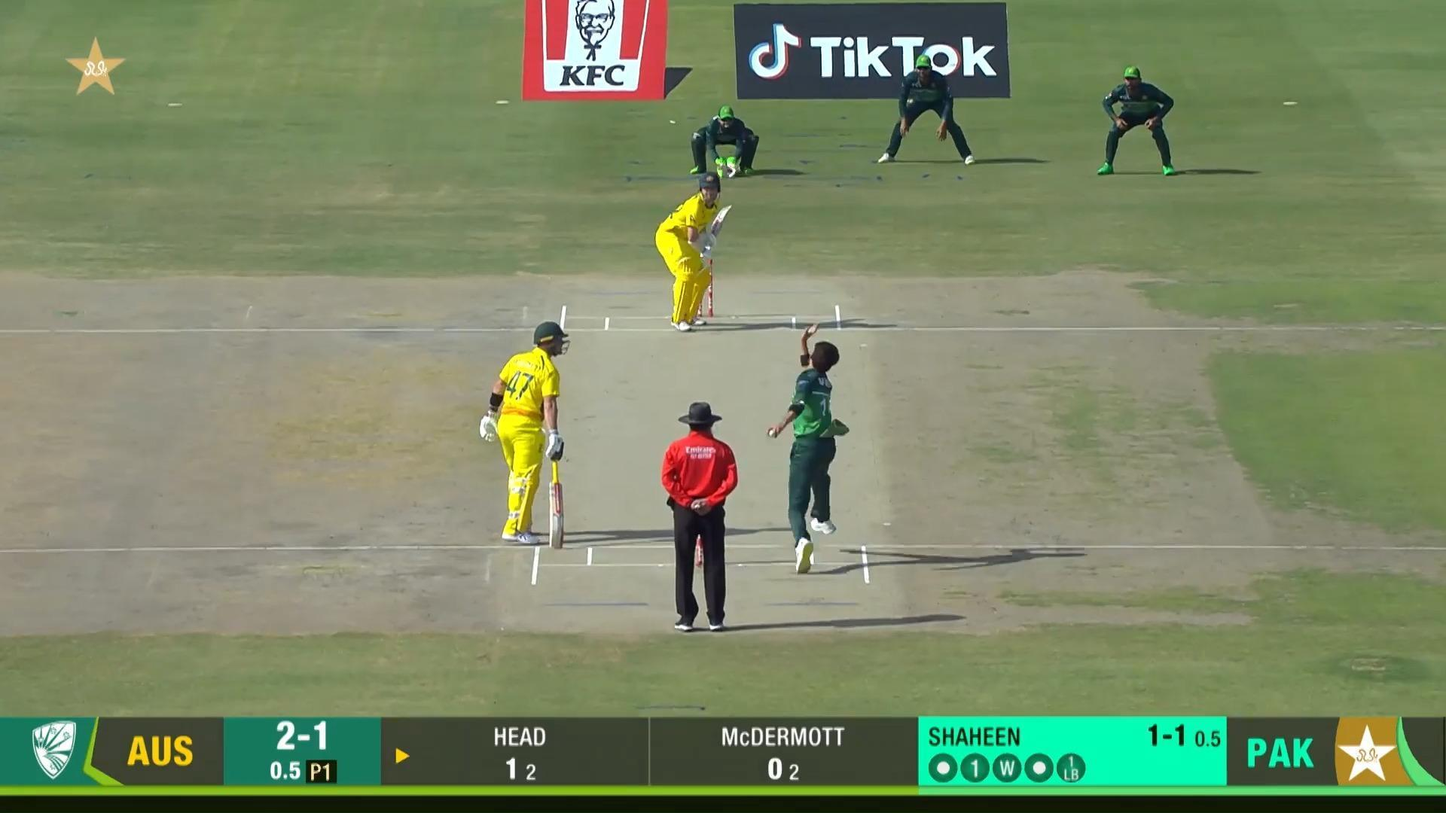BM 1: (654, 171, 733, 333)
BO: (766, 320, 842, 576)
